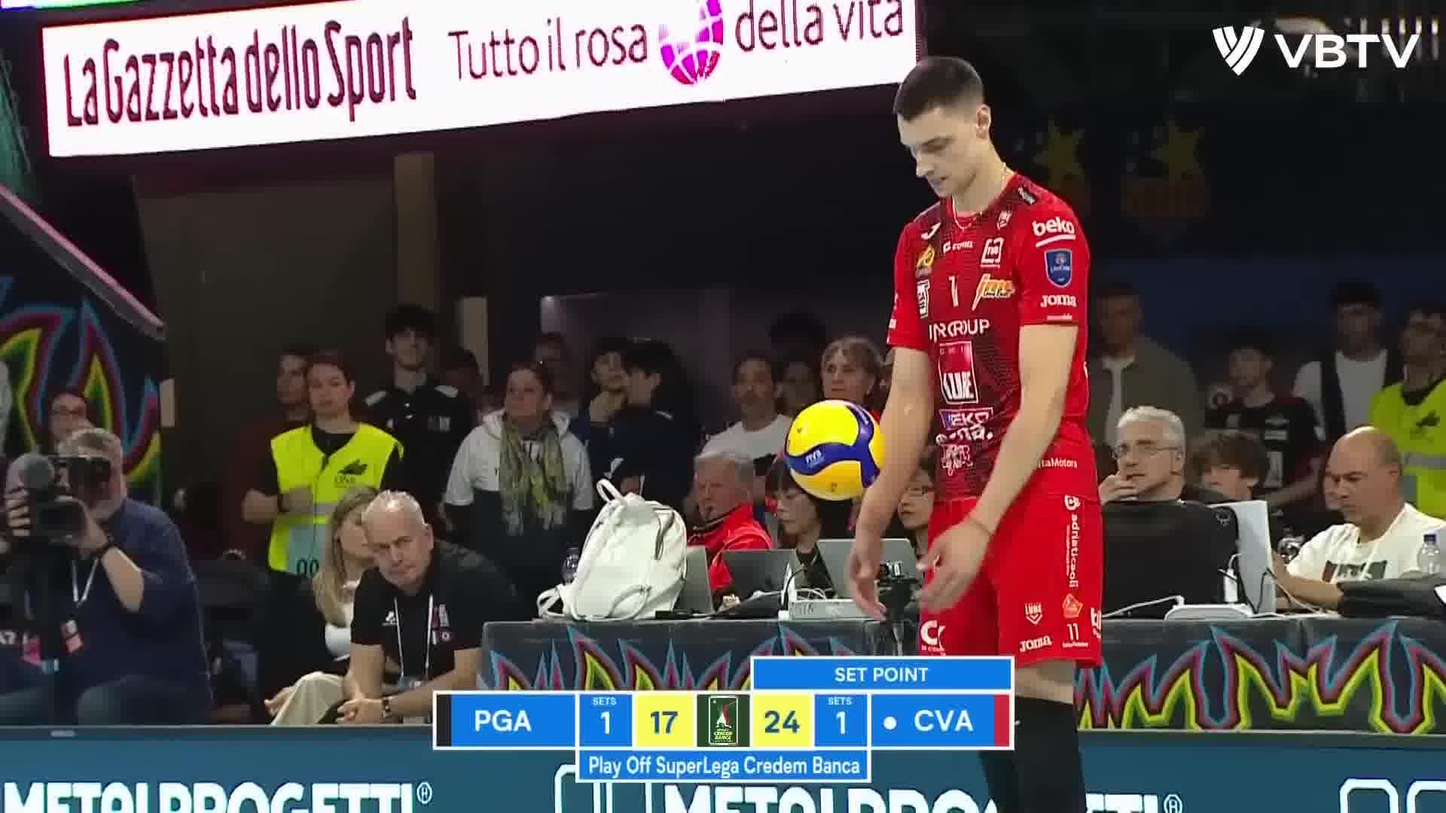balls: (779, 397, 889, 506)
